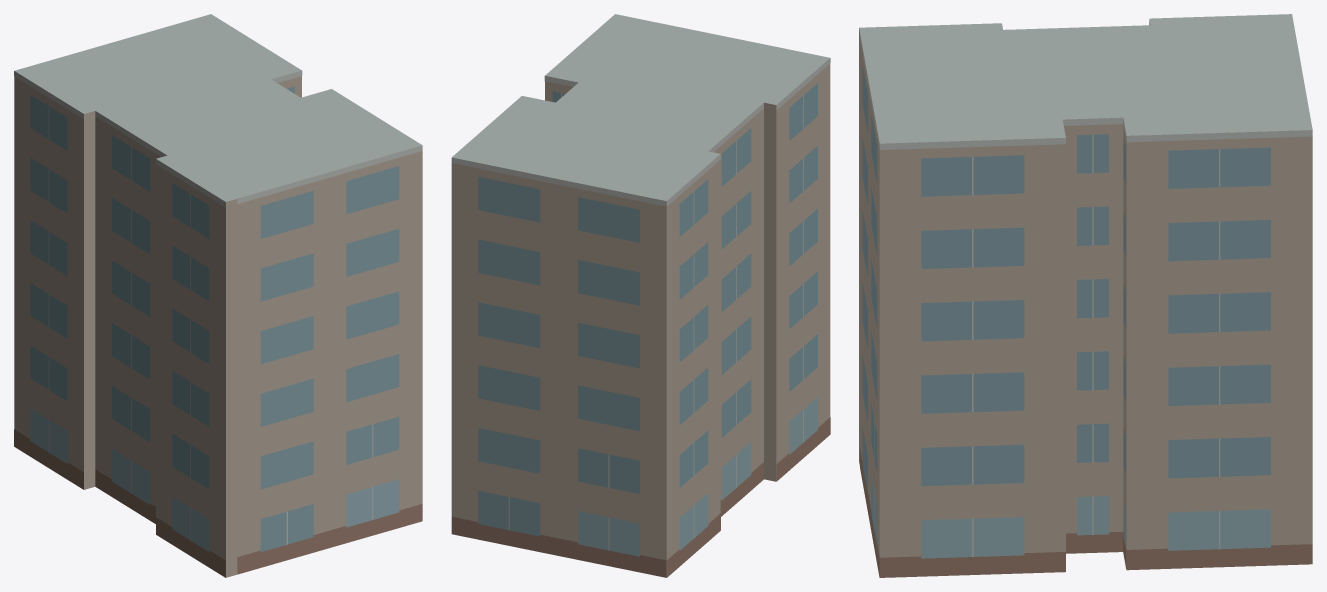
The model's file is survey-upis-32616331.glb.
3 renders of one model, left to right at view 1: azimuth 30°, elevation 25°; view 2: azimuth 150°, elevation 25°; view 3: azimuth 270°, elevation 25°, orthographic. The views are drawn at different scales.
Visible parts, largest first — view 1: survey-upis-32616331.tmp; view 2: survey-upis-32616331.tmp; view 3: survey-upis-32616331.tmp.
Part boxes in pixels (x1,y1,x2,y2): survey-upis-32616331.tmp: [14, 14, 422, 577]; survey-upis-32616331.tmp: [451, 14, 830, 577]; survey-upis-32616331.tmp: [859, 14, 1312, 577].
Bounding box in the file's own units: 10.64 × 16.6 × 15.72.
